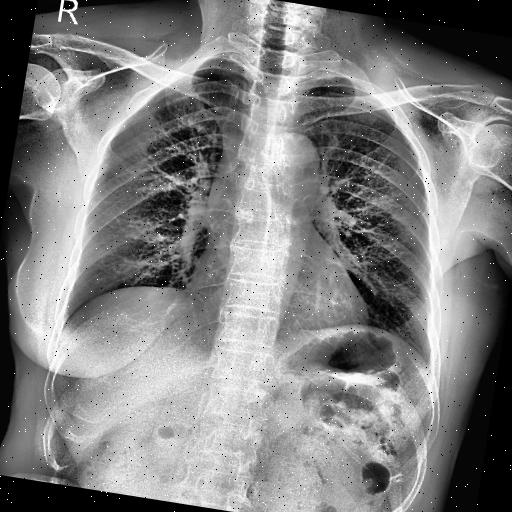0- Aortic enlargement: (224, 124, 326, 220), (260, 129, 326, 201), (262, 130, 325, 190)
